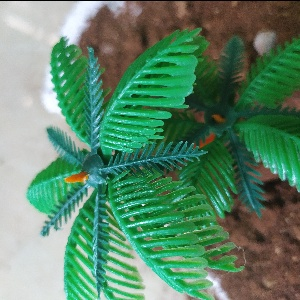plant: (36, 32, 299, 300)
